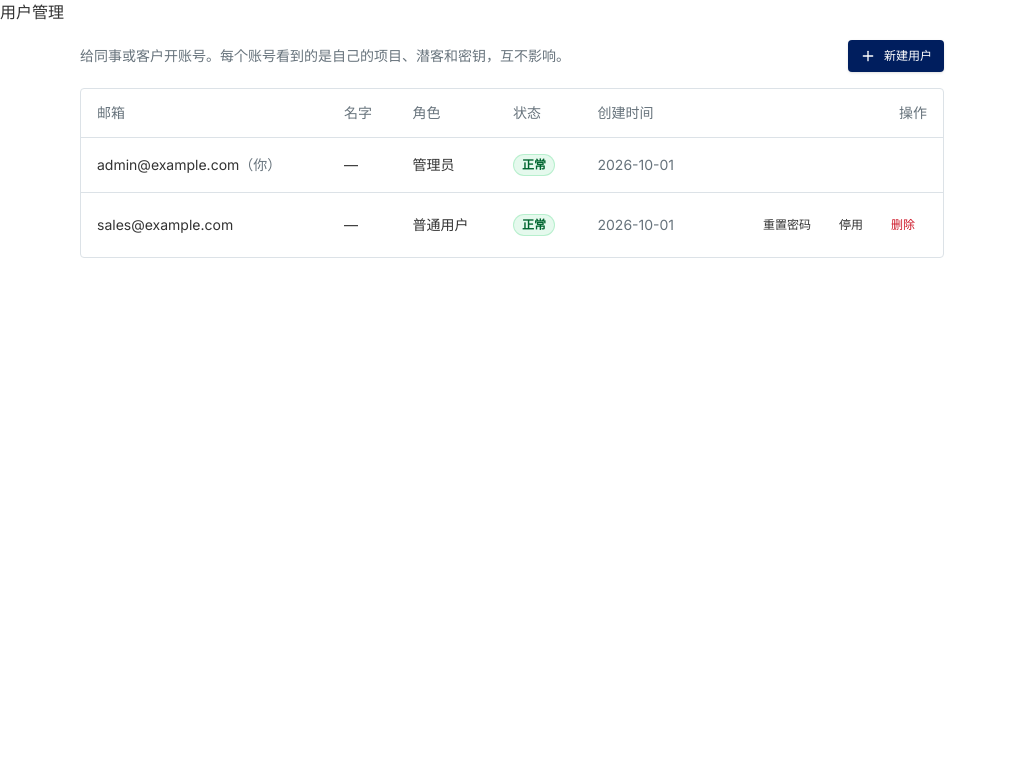
it: SettingsUsers › deletes a user only after the confirmation
The width and height of the screenshot is (1024, 768).
Click the button "删除" at (903, 224), box [879,208,927,240]
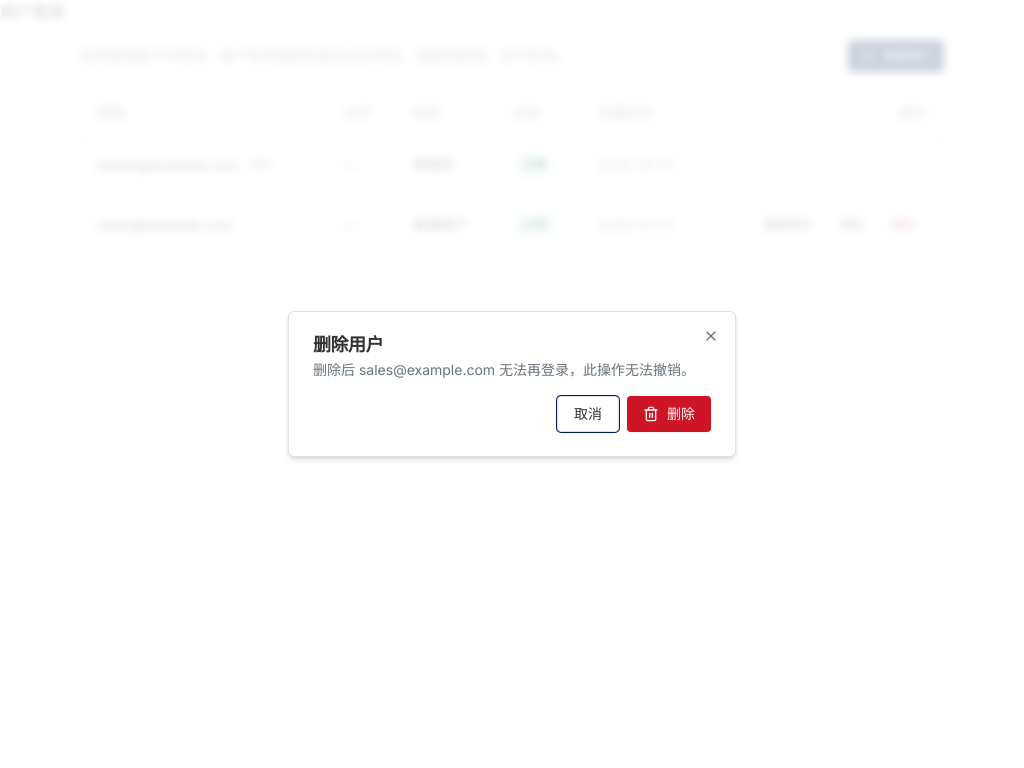
Click the button "删除" at (669, 414), box [627,396,711,432]
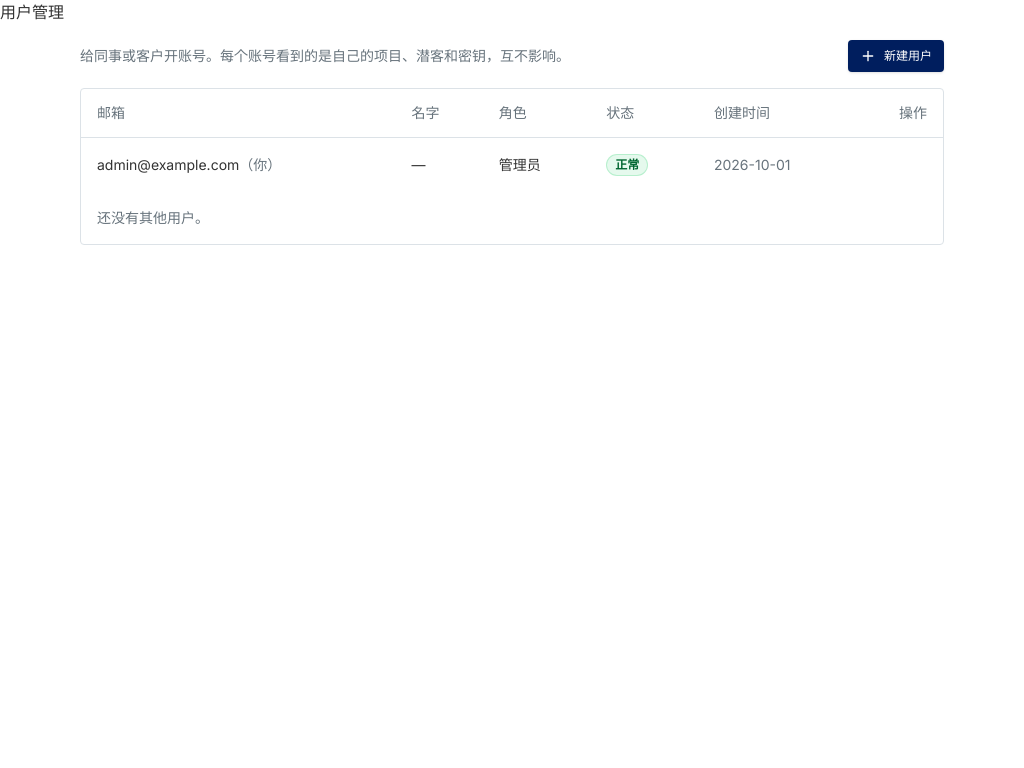
Result: the text "sales@example.com" is gone
